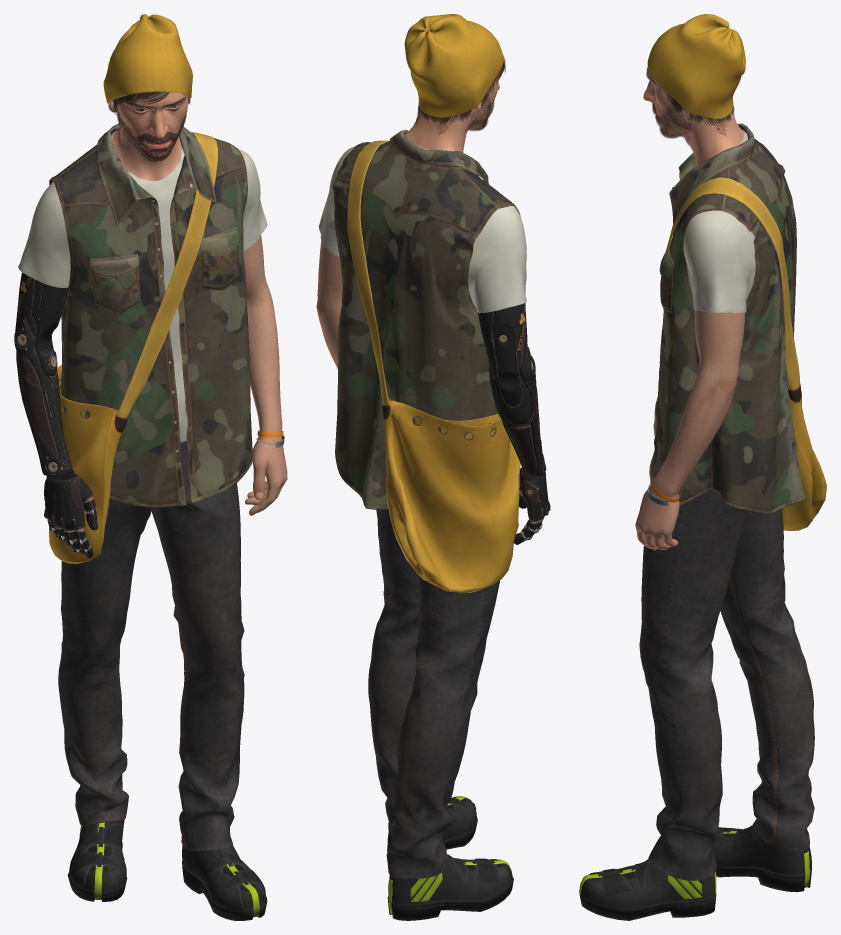
Rendered from still_human_backup.glb.
3 views of the same model, side by side, from view 1: azimuth 30°, elevation 25°; view 2: azimuth 150°, elevation 25°; view 3: azimuth 270°, elevation 25° (orthographic).
Visible parts, largest first — view 1: UVTileBMain, UVTileABody, UVTileAMetal, UVTileBHair; view 2: UVTileBMain, UVTileAMetal, UVTileABody, UVTileBHair; view 3: UVTileBMain, UVTileABody, UVTileBHair.
Part boxes in pixels (<box>): UVTileBMain: <box>18,14,283,920</box>; UVTileABody: <box>108,92,287,515</box>; UVTileAMetal: <box>14,184,284,558</box>; UVTileBHair: <box>108,92,190,161</box>; UVTileBMain: <box>318,14,526,920</box>; UVTileAMetal: <box>478,303,550,544</box>; UVTileABody: <box>316,66,502,368</box>; UVTileBHair: <box>416,57,505,134</box>; UVTileBMain: <box>579,14,826,920</box>; UVTileABody: <box>635,66,745,550</box>; UVTileBHair: <box>646,74,734,144</box>.
Size of what is drawn, in the model's own units: 0.5274 by 1.88 by 0.4843.
Materials: 4 (4 with a texture image).
